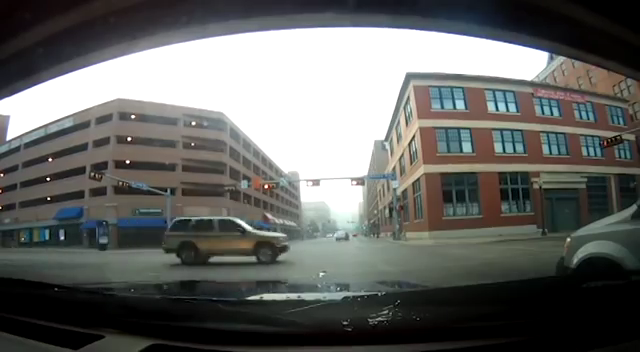car: (556, 199, 640, 281), (162, 216, 290, 263), (334, 231, 349, 241), (325, 232, 333, 238), (352, 232, 358, 237)
